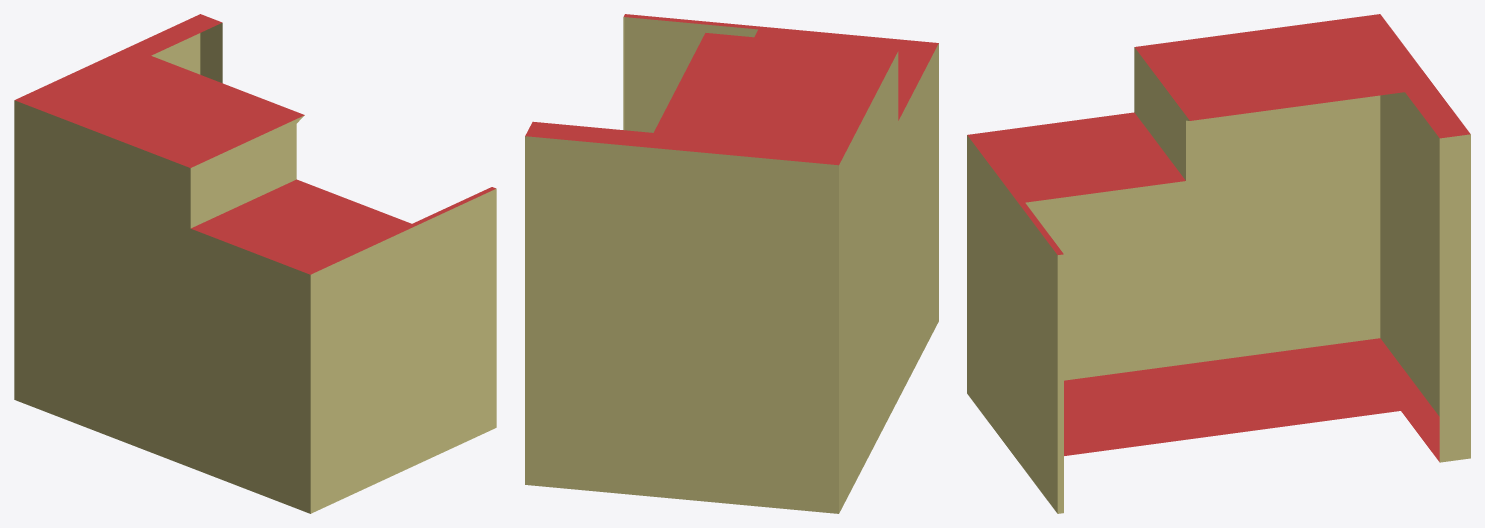
3 renders of one model, left to right at view 1: azimuth 30°, elevation 25°; view 2: azimuth 150°, elevation 25°; view 3: azimuth 270°, elevation 25°, orthographic. The views are drawn at different scales.
Size of the model in its own units: 9.57 by 11.59 by 8.23.
